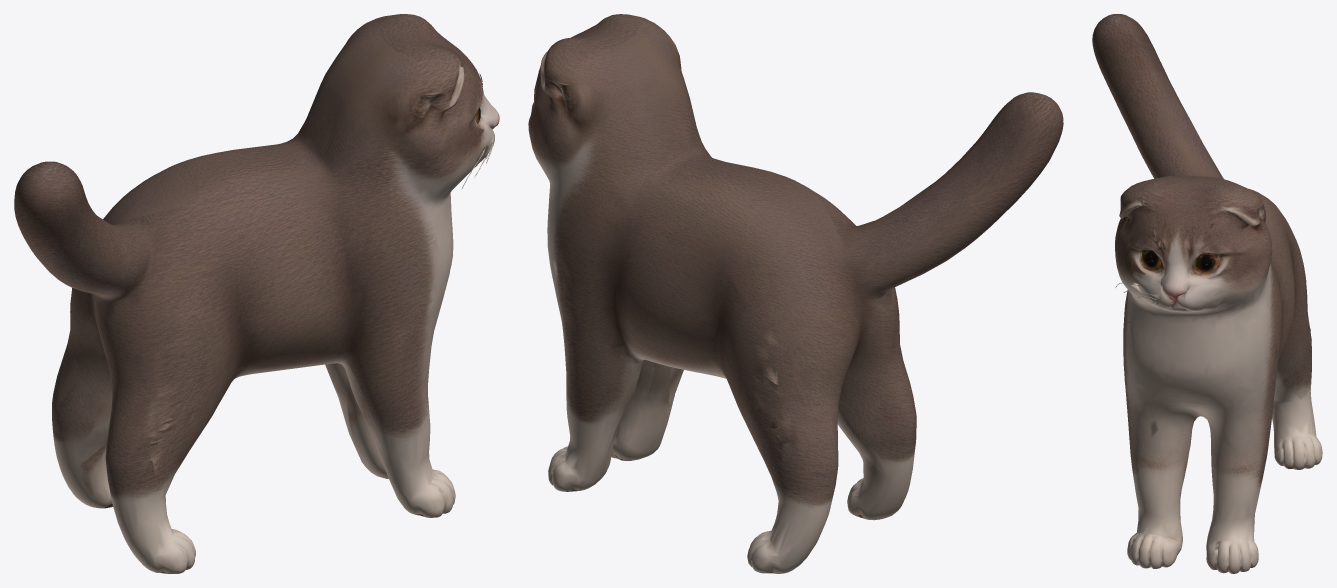
Rendered from LALEO.glb.
3 renders of one model, left to right at view 1: azimuth 30°, elevation 25°; view 2: azimuth 150°, elevation 25°; view 3: azimuth 270°, elevation 25°, orthographic. The views are drawn at different scales.
Parts seen in each view (by area): view 1: material; view 2: material; view 3: material.
Part boxes in pixels (x1=…): material: x1=14, y1=14, x2=499, y2=573; material: x1=528, y1=14, x2=1063, y2=573; material: x1=1092, y1=14, x2=1322, y2=573.
Size of the model in its own units: 1.17 by 0.9997 by 0.5446.
Materials: 1 (1 with a texture image).
